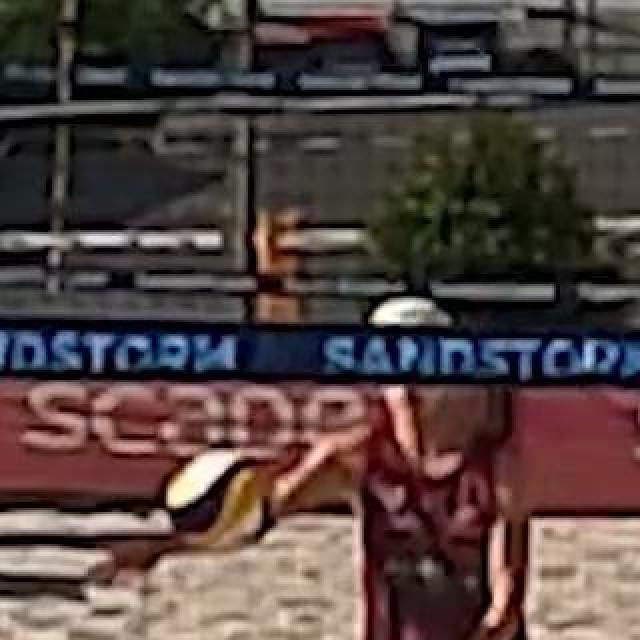volleyball: (164, 447, 252, 539)
